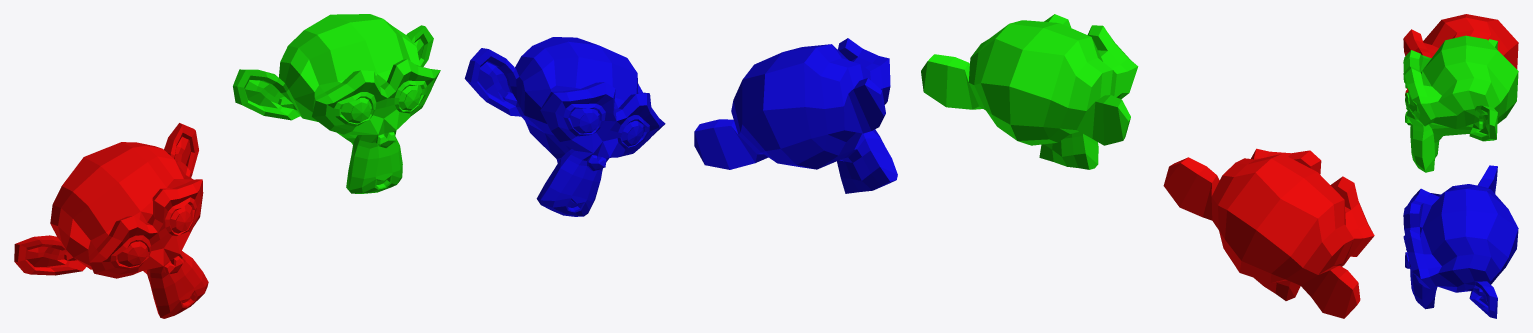
Rendered from RGBMonke.gltf.
The picture shows the model from 3 angles, left to right: view 1: azimuth 30°, elevation 25°; view 2: azimuth 150°, elevation 25°; view 3: azimuth 270°, elevation 25°; orthographic projection. The views are drawn at different scales.
Parts seen in each view (by area): view 1: Suzanne.001; view 2: Suzanne.001; view 3: Suzanne.001.
Part boxes in pixels (left/top/right/bottom): Suzanne.001: left=14, top=14, right=665, bottom=318; Suzanne.001: left=694, top=14, right=1374, bottom=318; Suzanne.001: left=1403, top=14, right=1518, bottom=318.
Size of the model in its own units: 8.71 by 2.98 by 1.7.
